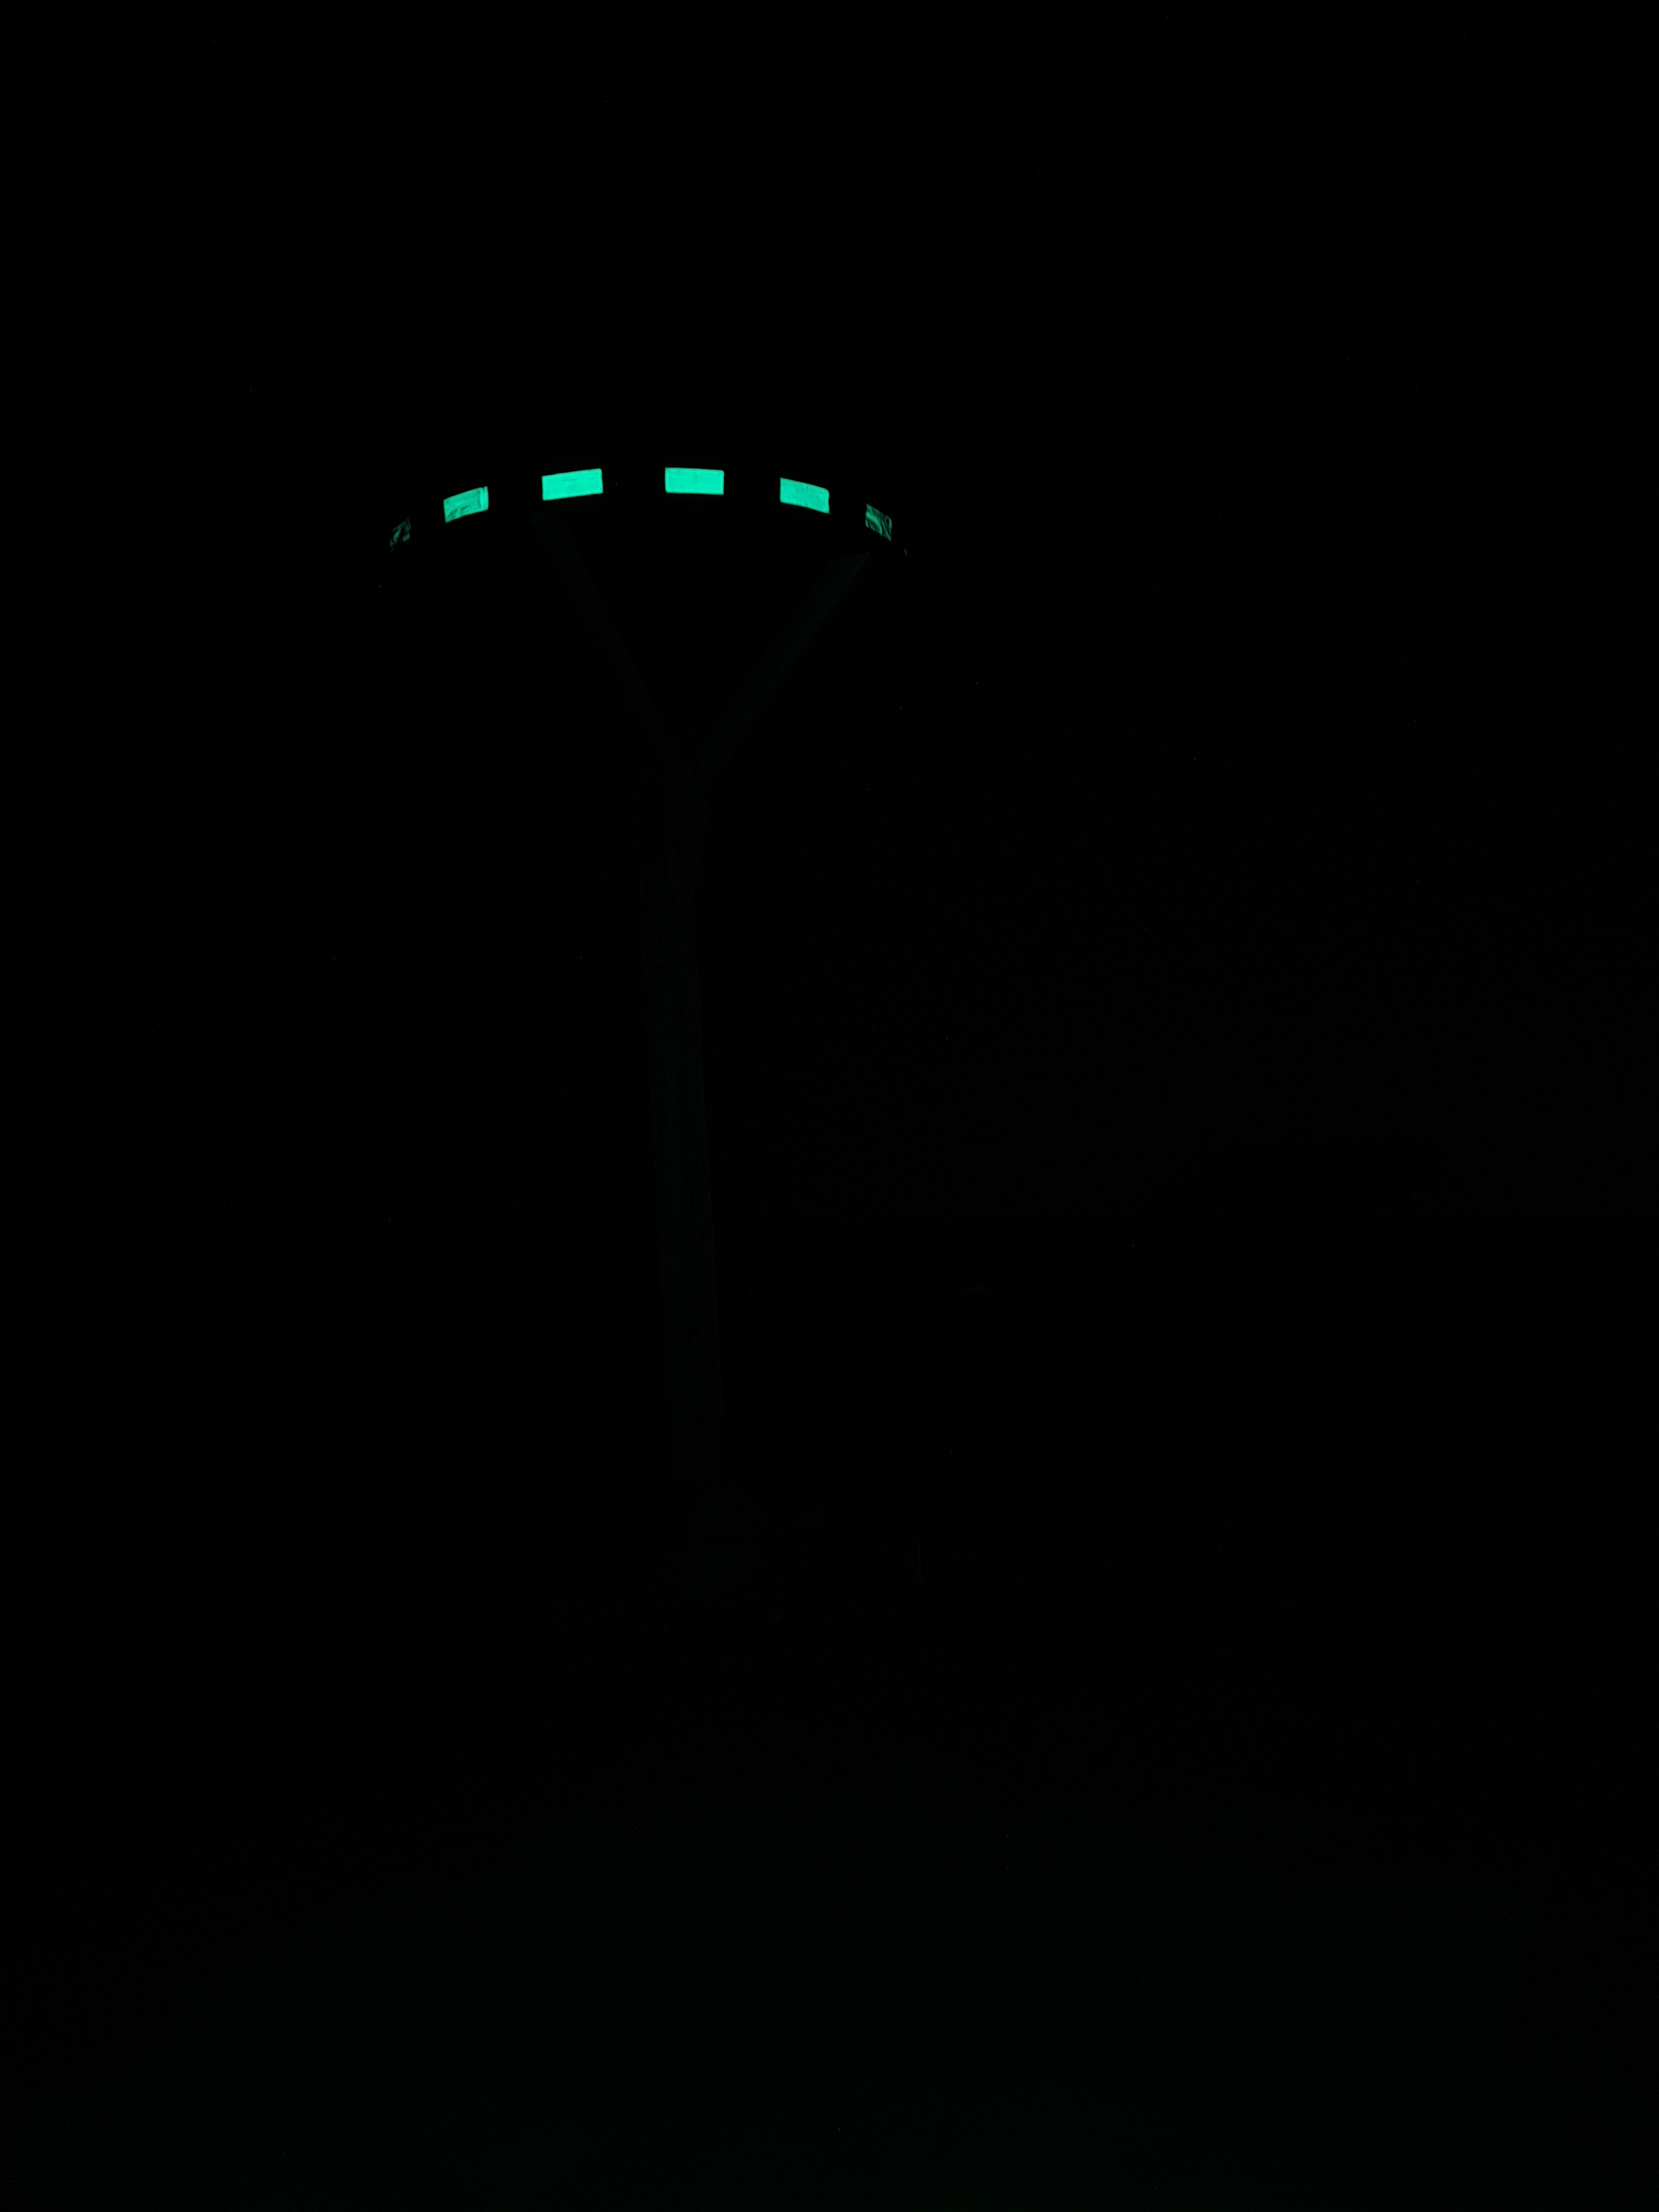hoop: (376, 460, 897, 547)
